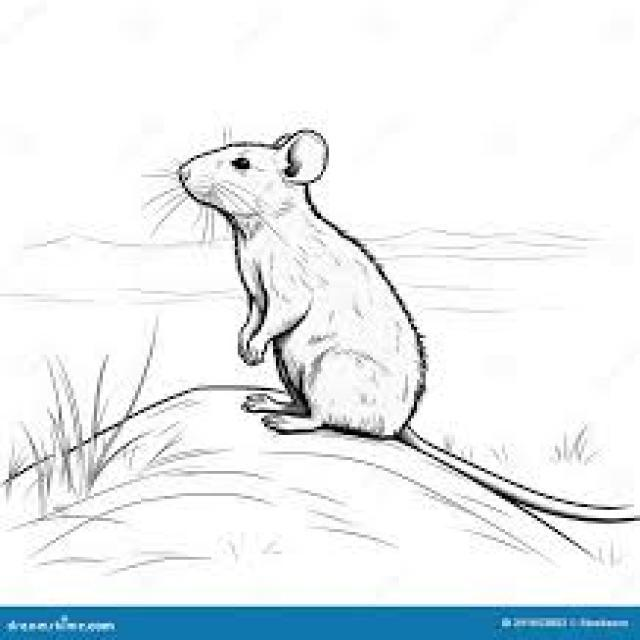Rat: (186, 101, 448, 443)
